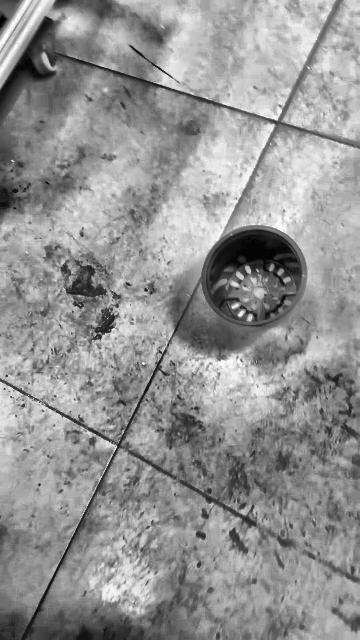pot: (202, 226, 307, 327)
